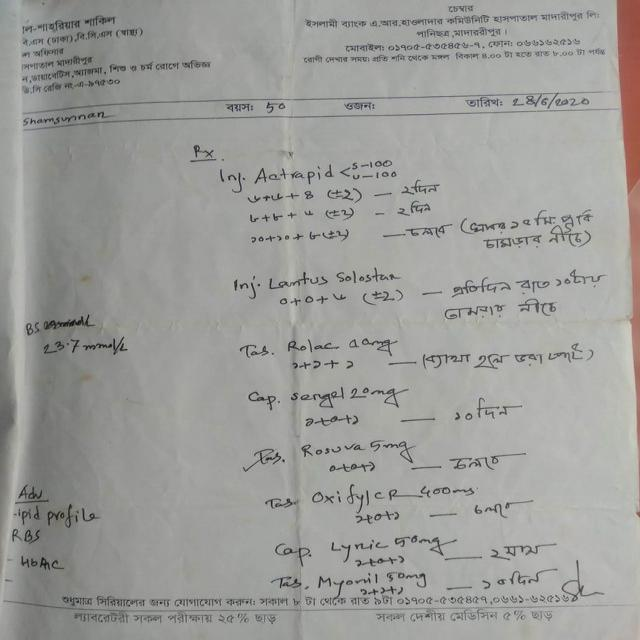Actrapid: (246, 160, 342, 185)
Lantus Solostar: (256, 268, 409, 290)
Lyric: (325, 536, 393, 557)
Myonil: (312, 572, 382, 589)
Oxifyl CR: (308, 481, 412, 507)
Rolac: (277, 335, 343, 358)
Rosuva: (298, 435, 366, 460)
Sergel: (286, 387, 350, 410)
